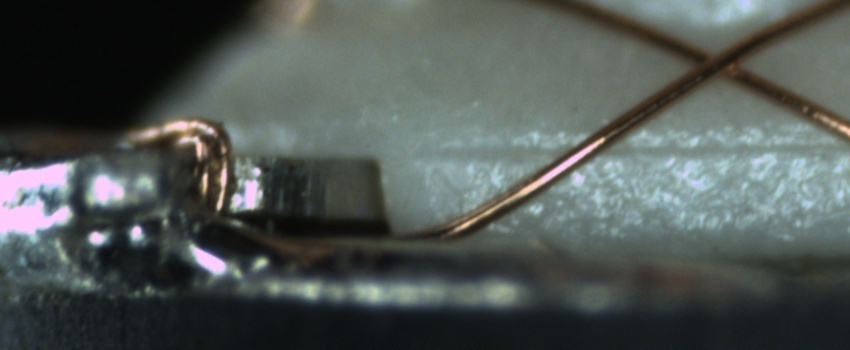CL: (668, 29, 764, 90)
DL: (418, 125, 849, 179)
TE: (115, 106, 240, 226)
